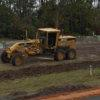Tractor: (7, 23, 87, 75)
